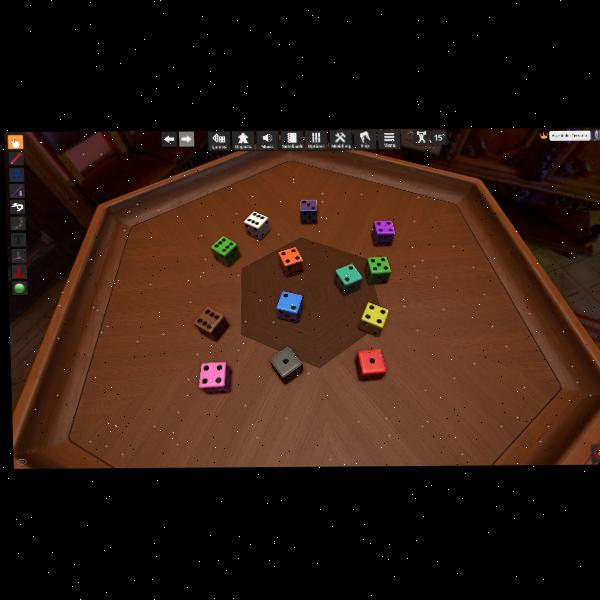d6: (270, 346, 304, 384), (195, 305, 230, 340), (198, 361, 232, 394), (358, 301, 389, 335), (355, 348, 387, 380), (276, 290, 305, 322), (210, 236, 239, 267), (334, 262, 361, 295), (243, 211, 270, 240), (278, 247, 304, 277), (365, 255, 391, 283), (371, 220, 395, 246), (299, 200, 317, 224)
